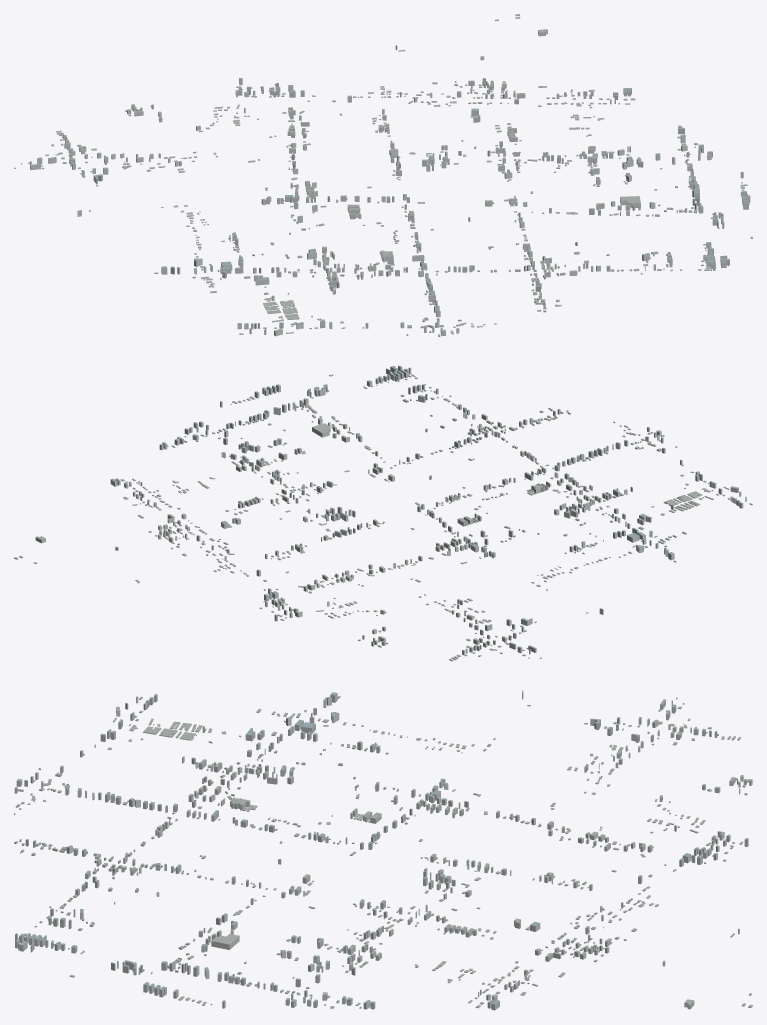
Rendered from far.glb.
3 views of the same model, one above another, from view 1: azimuth 30°, elevation 25°; view 2: azimuth 150°, elevation 25°; view 3: azimuth 270°, elevation 25° (orthographic). The views are drawn at different scales.
Bounding box in the file's own units: 2092 × 26.7 × 2082.
